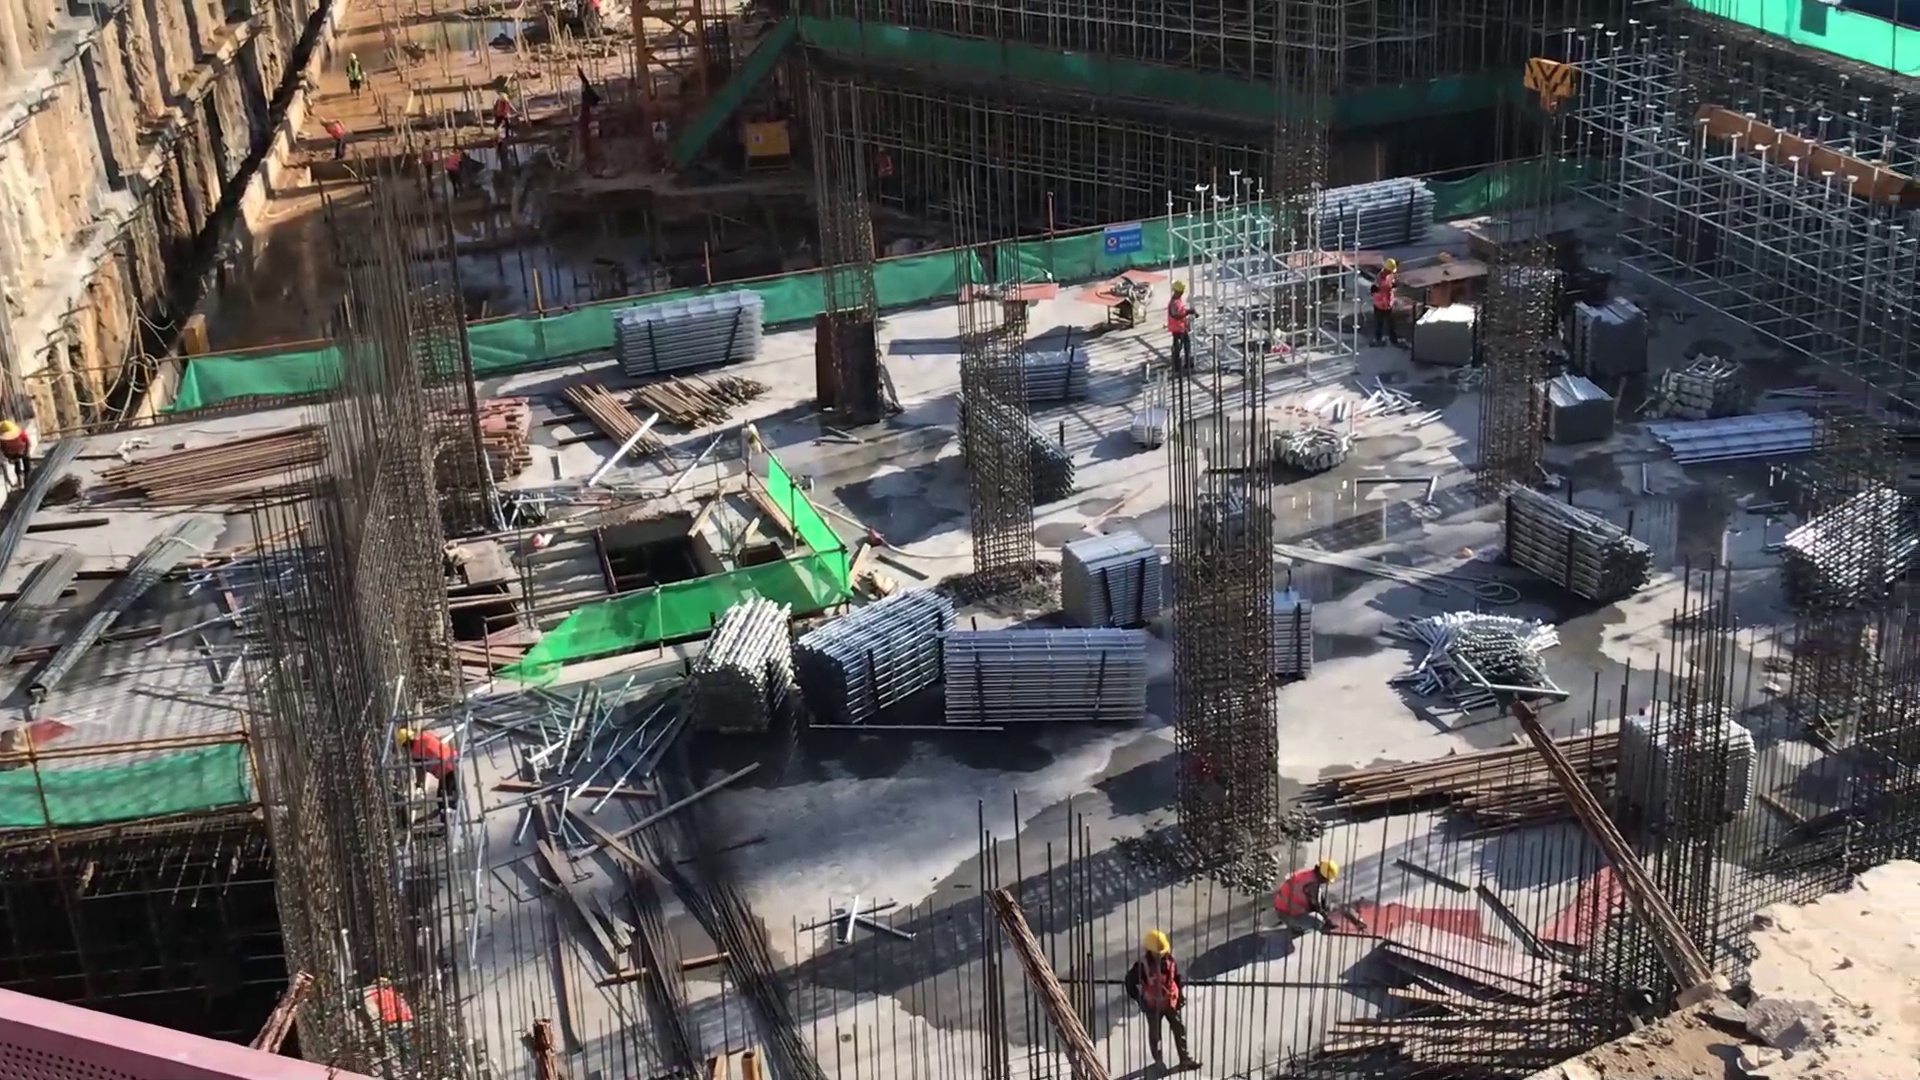cutter: (1067, 252, 1160, 340), (960, 271, 1067, 336)
ebox: (741, 117, 791, 178)
helmet: (1134, 926, 1174, 962), (392, 723, 417, 758), (1315, 853, 1336, 887), (1166, 274, 1189, 302), (366, 973, 396, 994), (1377, 257, 1398, 277), (315, 113, 333, 132), (343, 49, 360, 64)
hook: (1503, 50, 1586, 126)
person: (1121, 924, 1207, 1079), (354, 967, 421, 1072), (389, 722, 465, 815), (1267, 851, 1336, 946), (1161, 273, 1200, 378), (1366, 256, 1405, 349), (1, 411, 41, 486), (314, 106, 357, 172), (340, 48, 371, 97)
scaffold: (797, 572, 969, 741), (937, 618, 1158, 739), (1487, 467, 1660, 614), (666, 591, 803, 751), (605, 276, 779, 386), (1053, 512, 1168, 638), (1303, 162, 1450, 259), (1569, 288, 1663, 415), (1535, 359, 1624, 441)
vest: (405, 727, 459, 783), (1134, 959, 1186, 1015), (1272, 865, 1316, 921), (362, 987, 414, 1031), (1164, 298, 1192, 345), (1367, 279, 1402, 316), (1, 433, 33, 461), (325, 116, 349, 146), (342, 60, 364, 86)
